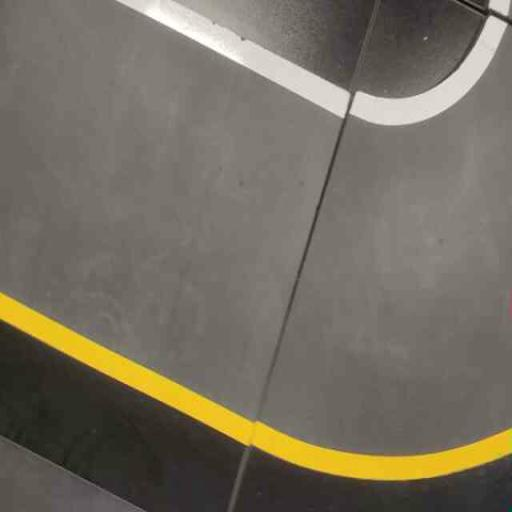right: (249, 0, 512, 481)
